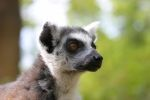cat: (0, 18, 103, 99)
